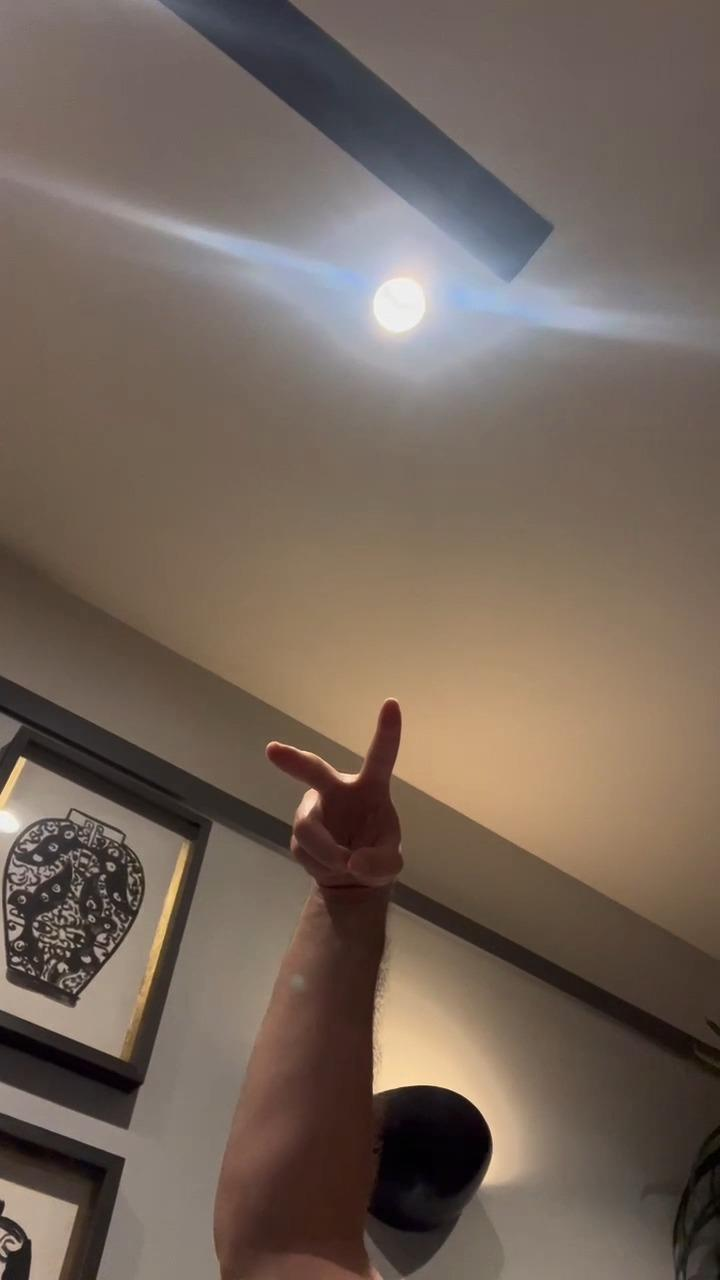Scissors: (268, 698, 407, 889)
